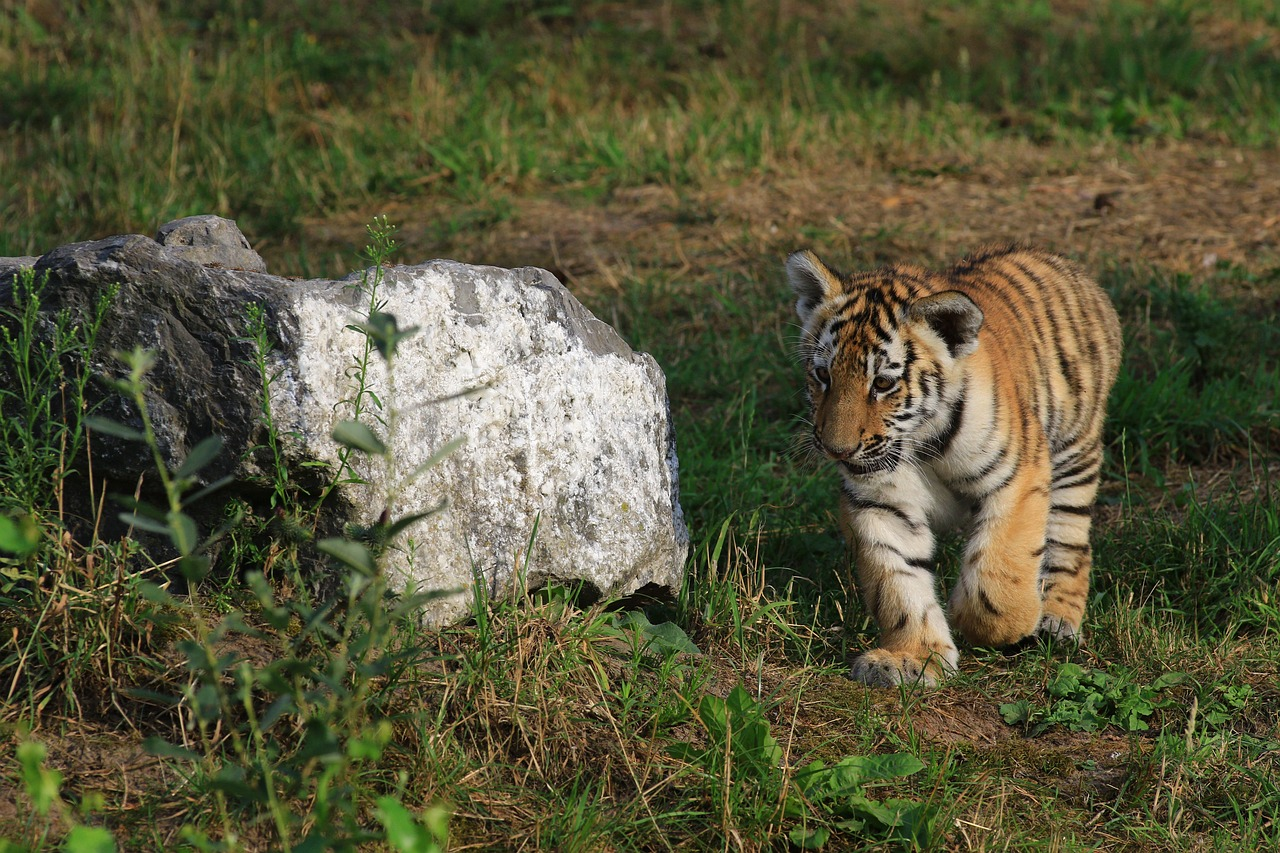tiger: (762, 231, 1009, 506)
